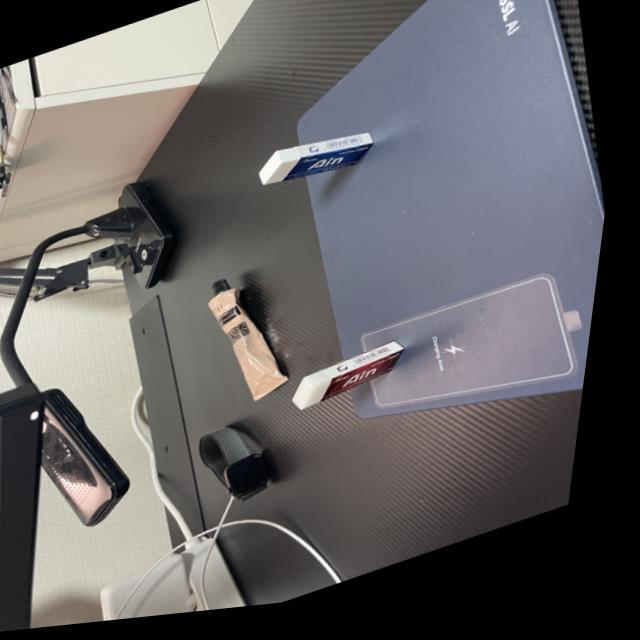blue: (239, 115, 401, 216)
red: (280, 326, 452, 434)
